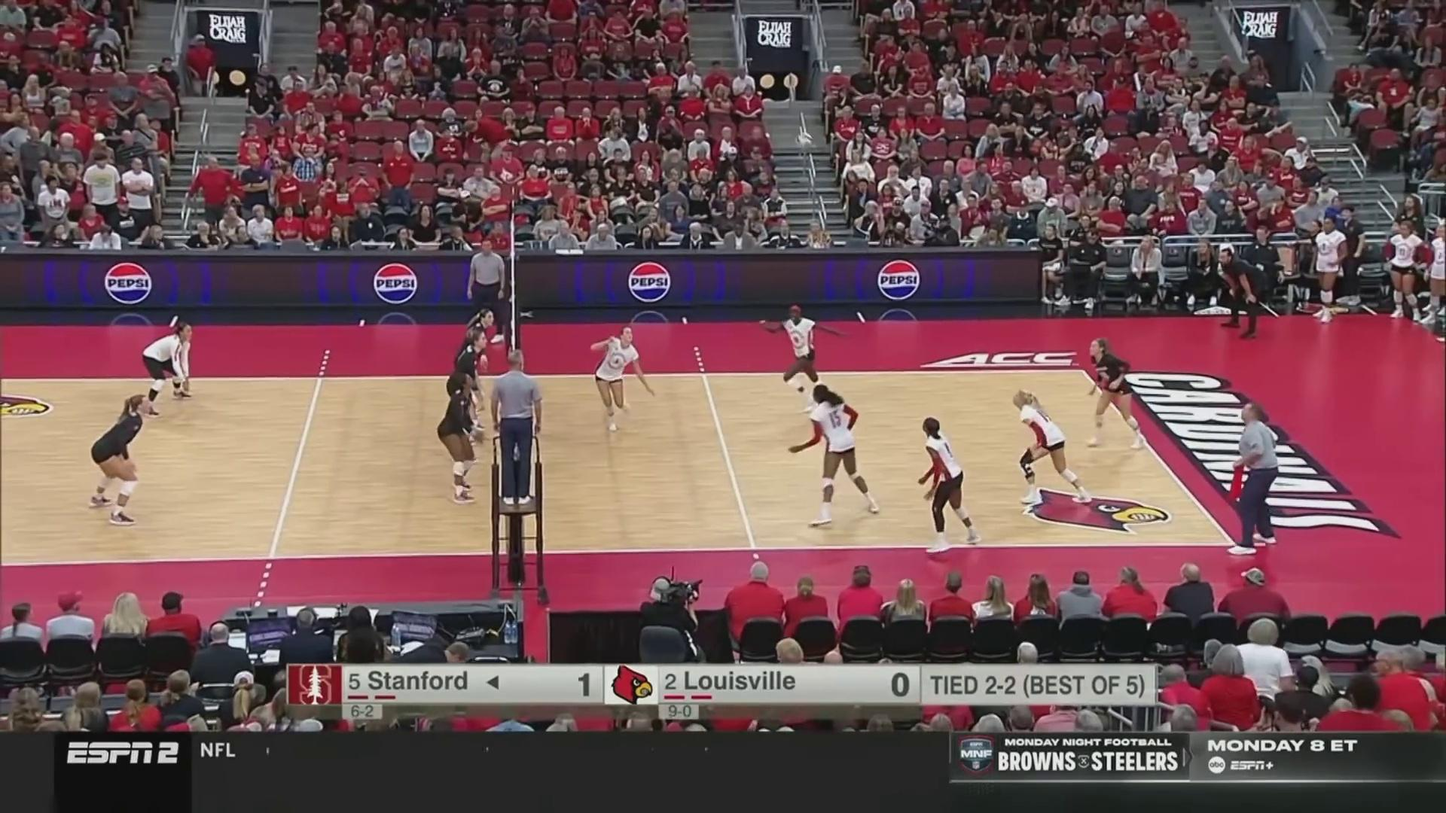player: (789, 388, 878, 529), (1009, 392, 1084, 512), (85, 392, 153, 524), (763, 307, 849, 407), (916, 422, 979, 551), (1083, 339, 1150, 450), (593, 332, 657, 438), (438, 369, 486, 505), (443, 327, 494, 444), (455, 306, 495, 422), (140, 325, 197, 406)
refree: (1223, 400, 1282, 552), (487, 358, 545, 500), (464, 237, 510, 348)
